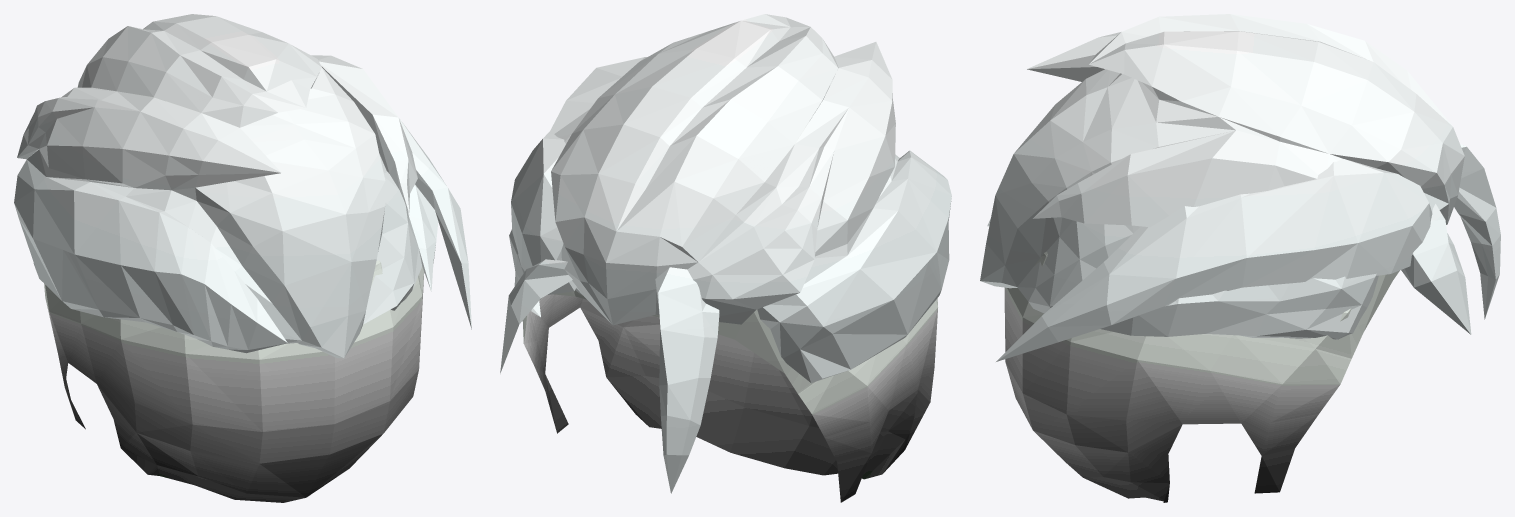
Rendered from CharSkyKid_Hair_AP07Undercut_01.glb.
3 views of the same model, side by side, from view 1: azimuth 30°, elevation 25°; view 2: azimuth 150°, elevation 25°; view 3: azimuth 270°, elevation 25° (orthographic). The views are drawn at different scales.
Visible parts, largest first — view 1: CharSkyKid_Hair_AP07Undercut_01; view 2: CharSkyKid_Hair_AP07Undercut_01; view 3: CharSkyKid_Hair_AP07Undercut_01.
Boxes of the visible parts, x1,y1,x2,y2 form: CharSkyKid_Hair_AP07Undercut_01: [14, 14, 471, 502]; CharSkyKid_Hair_AP07Undercut_01: [500, 14, 951, 502]; CharSkyKid_Hair_AP07Undercut_01: [980, 14, 1500, 502].
Bounding box in the file's own units: 2.45 × 2.82 × 2.96.
Materials: 1 (1 with a texture image).
